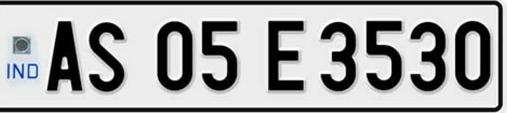0: (152, 13, 197, 96), (451, 17, 495, 100)
3: (407, 13, 451, 95), (317, 18, 361, 97)
5: (363, 13, 409, 96), (198, 15, 243, 97)
A: (41, 13, 86, 98)
E: (266, 16, 310, 96)
S: (86, 14, 129, 96)
